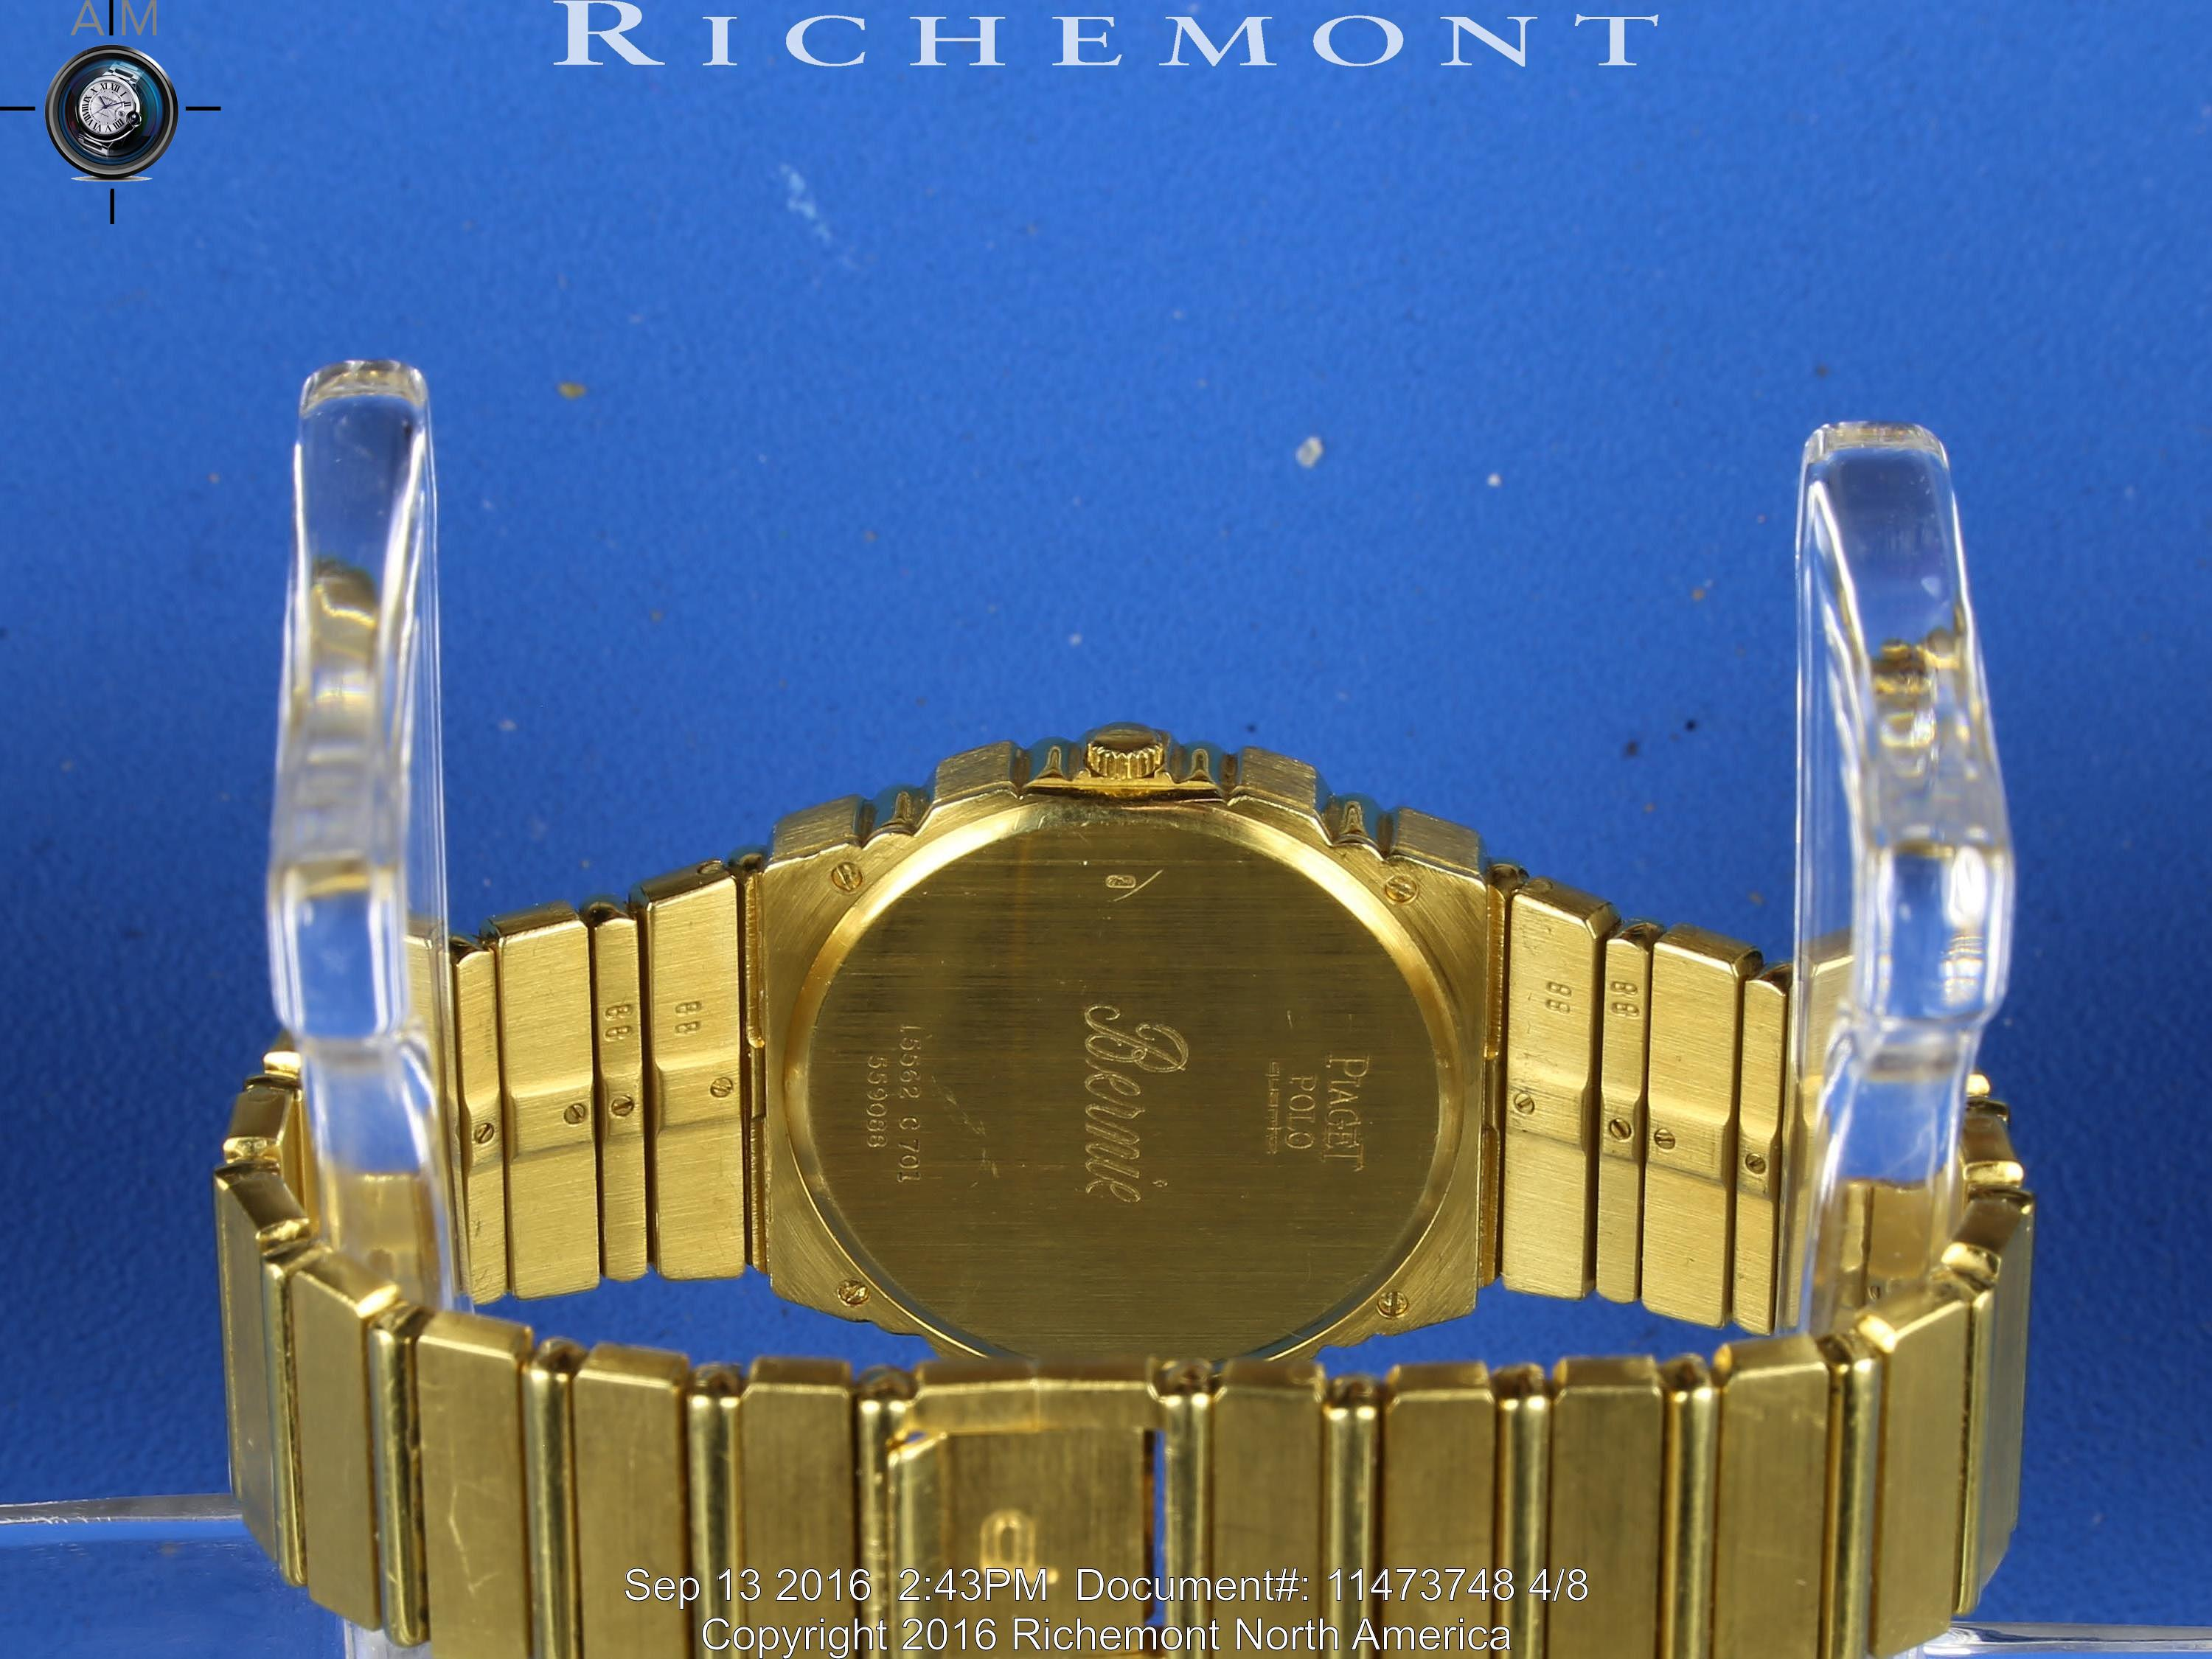Watch BackCase: (737, 718, 1494, 1356)
